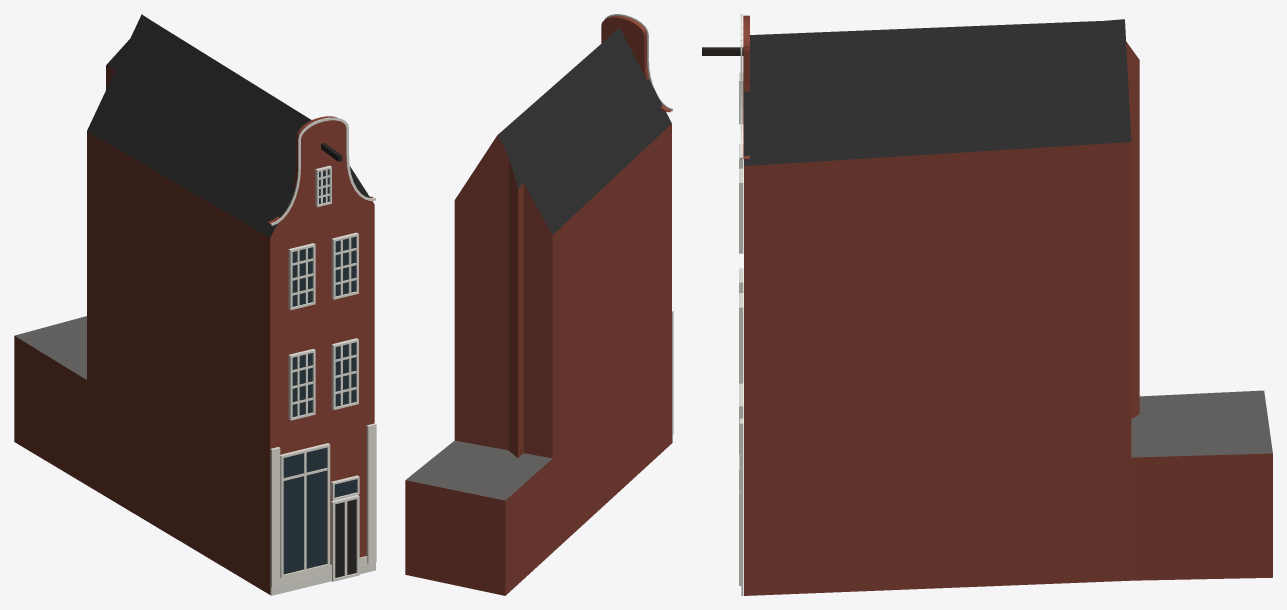
The picture shows the model from 3 angles, left to right: view 1: azimuth 30°, elevation 25°; view 2: azimuth 150°, elevation 25°; view 3: azimuth 270°, elevation 25°; orthographic projection. The views are drawn at different scales.
Visible parts, largest first — view 1: spec-0363100012178393; view 2: spec-0363100012178393; view 3: spec-0363100012178393.
Part boxes in pixels (bbox=[...]): spec-0363100012178393: bbox=[14, 14, 376, 595]; spec-0363100012178393: bbox=[405, 14, 673, 595]; spec-0363100012178393: bbox=[702, 14, 1272, 595].
Size of the model in its own units: 4.98 by 15.81 by 14.96.
